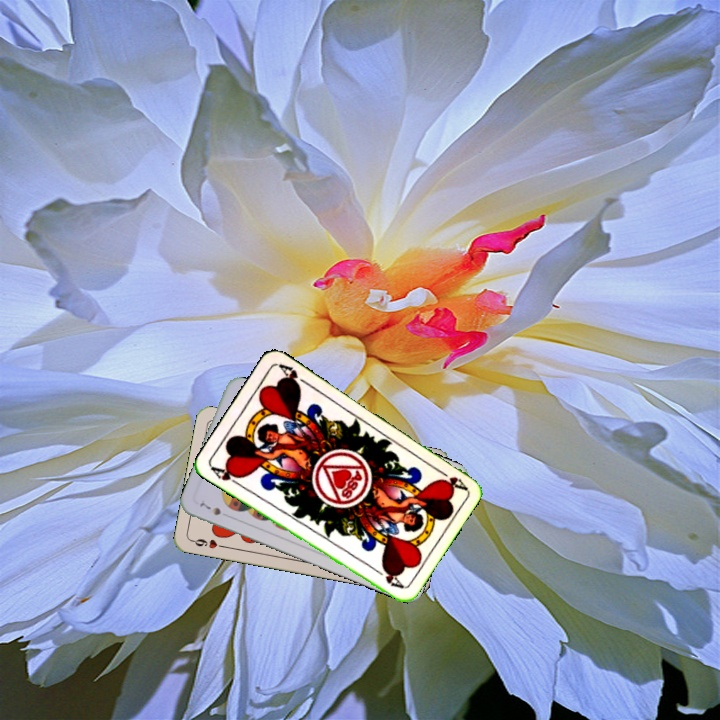H9: (188, 535, 228, 551)
HA: (432, 464, 469, 493), (207, 462, 244, 489)
S7: (195, 497, 224, 518)
